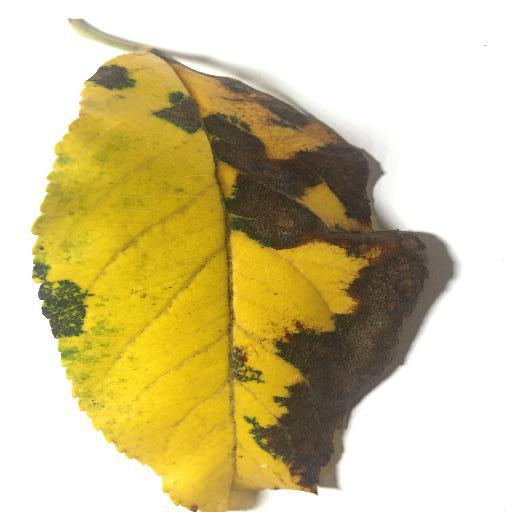Brown_Spot: (156, 75, 456, 502), (35, 262, 91, 344), (91, 61, 144, 93)
